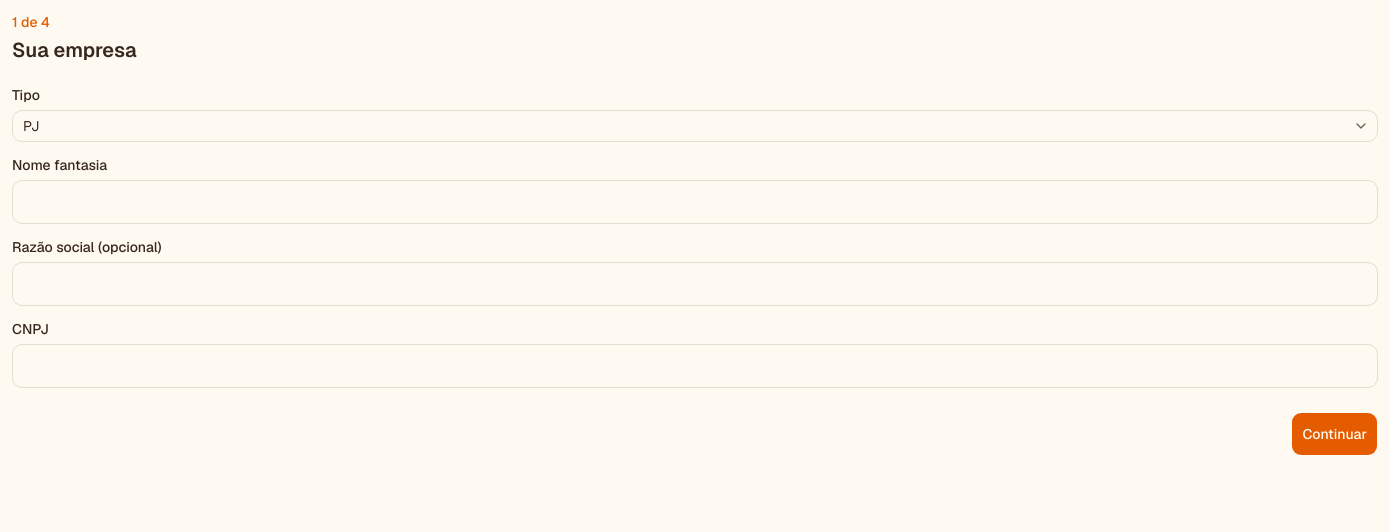
CompanyForm › starts on the company step and validates the document by person type
Expected: the text "1 de 4" is shown, [12,13,50,31]
Expected: the field labelled "CNPJ" is shown, [12,344,1378,388]
Click the button "Continuar".
click(1335, 434)  # box [1291,412,1378,456]
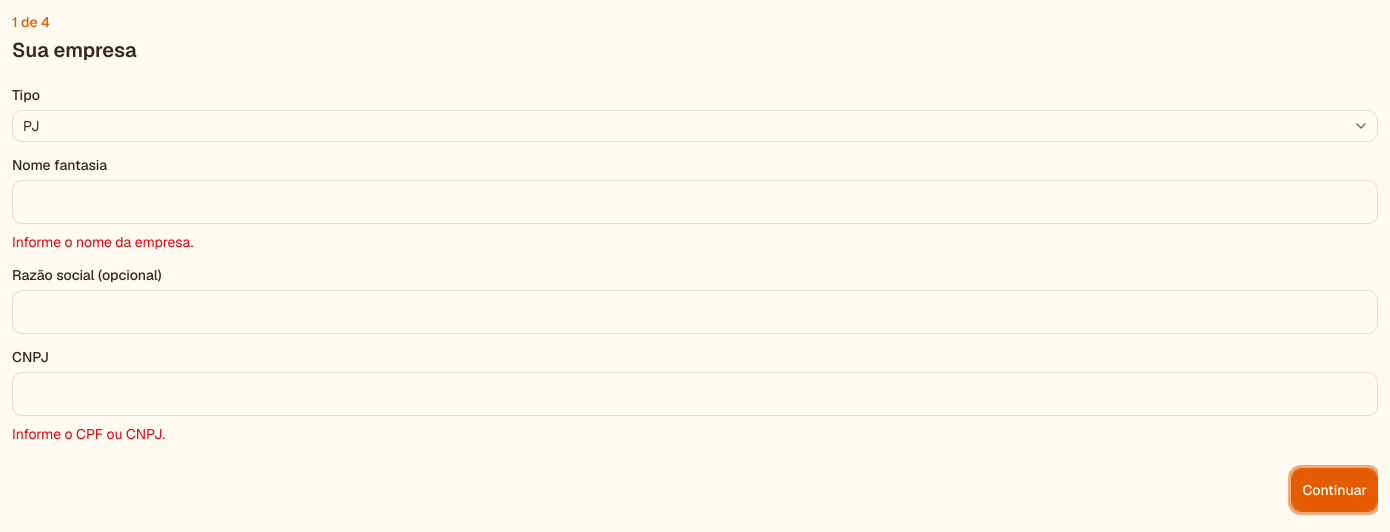
Expected: the text "Informe o nome da empresa." is shown, [12,233,193,251]
